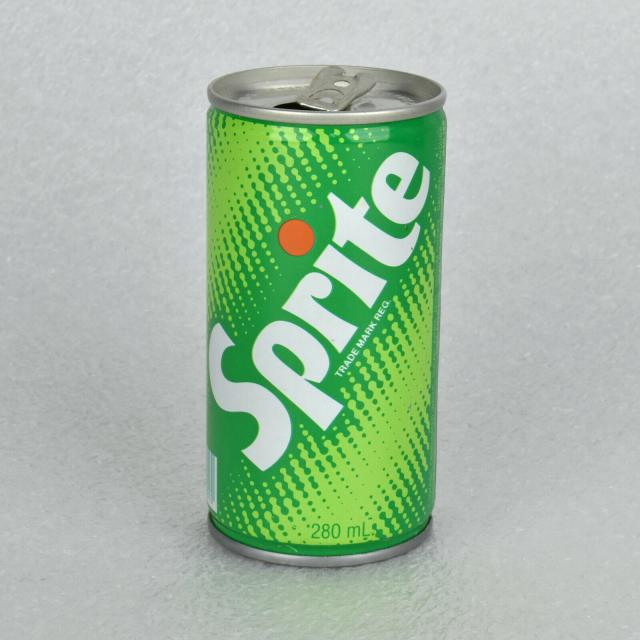sprite: (203, 65, 477, 578)
